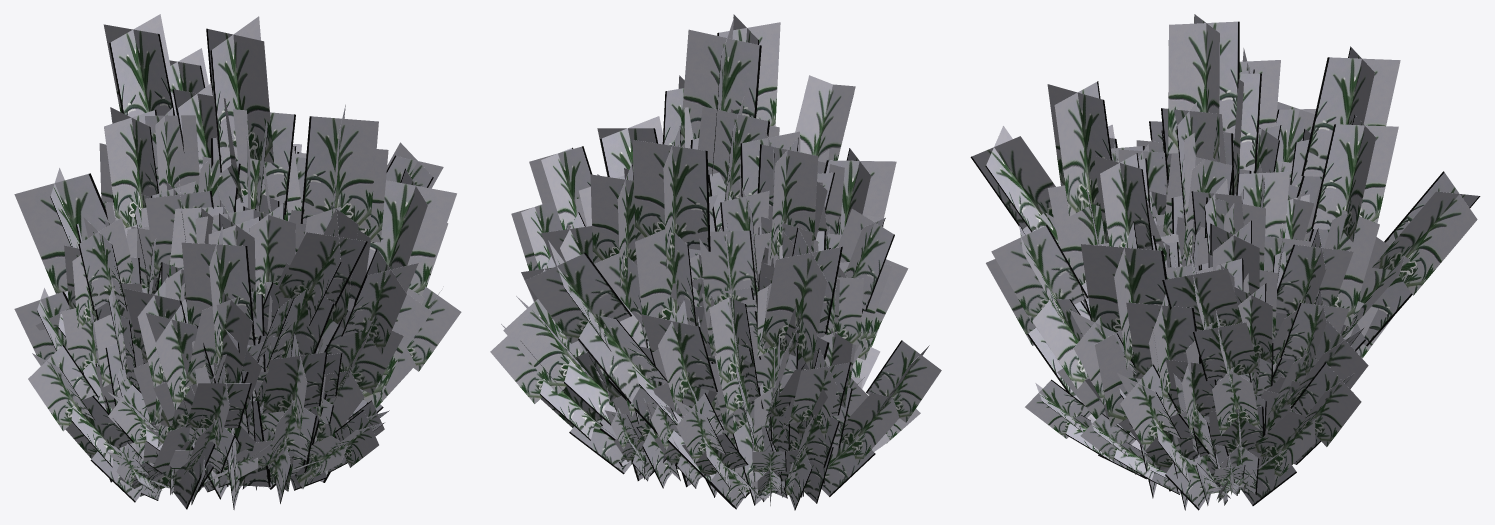
File: rosemary.fbx
3 views of the same model, side by side, from view 1: azimuth 30°, elevation 25°; view 2: azimuth 150°, elevation 25°; view 3: azimuth 270°, elevation 25° (orthographic).
Visible parts, largest first — view 1: 237.014, 237.025, 237.023, 237.010, 237.038, 237.099, 237.016, 237.042, 237.122, 237.036, 237.104, 237.012 (+32 smaller); view 2: 237.012, 237.095, 237.118, 237.036, 237.122, 237.038, 237.053, 237.030, 237.037, 237.125, 237.005, 237.069 (+31 smaller); view 3: 237.053, 237.095, 237.014, 237.038, 237.016, 237.025, 237.082, 237.012, 237.069, 237.063, 237.023, 237.057 (+29 smaller).
Part boxes in pixels (x1,y1,x2,y2): 237.014: [291, 105, 378, 488]; 237.025: [270, 248, 418, 479]; 237.023: [242, 208, 367, 491]; 237.010: [181, 224, 270, 509]; 237.038: [206, 16, 287, 220]; 237.099: [140, 290, 256, 509]; 237.016: [295, 168, 456, 488]; 237.042: [250, 332, 327, 503]; 237.122: [28, 344, 161, 502]; 237.036: [14, 168, 108, 303]; 237.104: [78, 217, 143, 488]; 237.012: [103, 14, 174, 117]; 237.012: [632, 126, 715, 487]; 237.095: [525, 240, 733, 507]; 237.118: [699, 221, 787, 505]; 237.036: [760, 227, 842, 497]; 237.122: [821, 340, 941, 496]; 237.038: [680, 18, 761, 175]; 237.053: [590, 162, 680, 480]; 237.030: [503, 296, 671, 477]; 237.037: [752, 137, 818, 280]; 237.125: [778, 348, 851, 510]; 237.005: [641, 300, 730, 497]; 237.069: [490, 324, 631, 474]; 237.053: [1309, 115, 1398, 326]; 237.095: [1341, 171, 1480, 351]; 237.014: [1047, 81, 1135, 474]; 237.038: [1166, 14, 1239, 266]; 237.016: [1081, 221, 1166, 498]; 237.025: [991, 224, 1127, 431]; 237.082: [1193, 308, 1264, 502]; 237.012: [1296, 46, 1400, 241]; 237.069: [1221, 362, 1361, 505]; 237.063: [1117, 364, 1230, 510]; 237.023: [970, 126, 1083, 302]; 237.057: [1126, 294, 1218, 510].
Bounding box in the file's own units: 59.19 × 60.71 × 61.93.
1 material, 1 textured.
